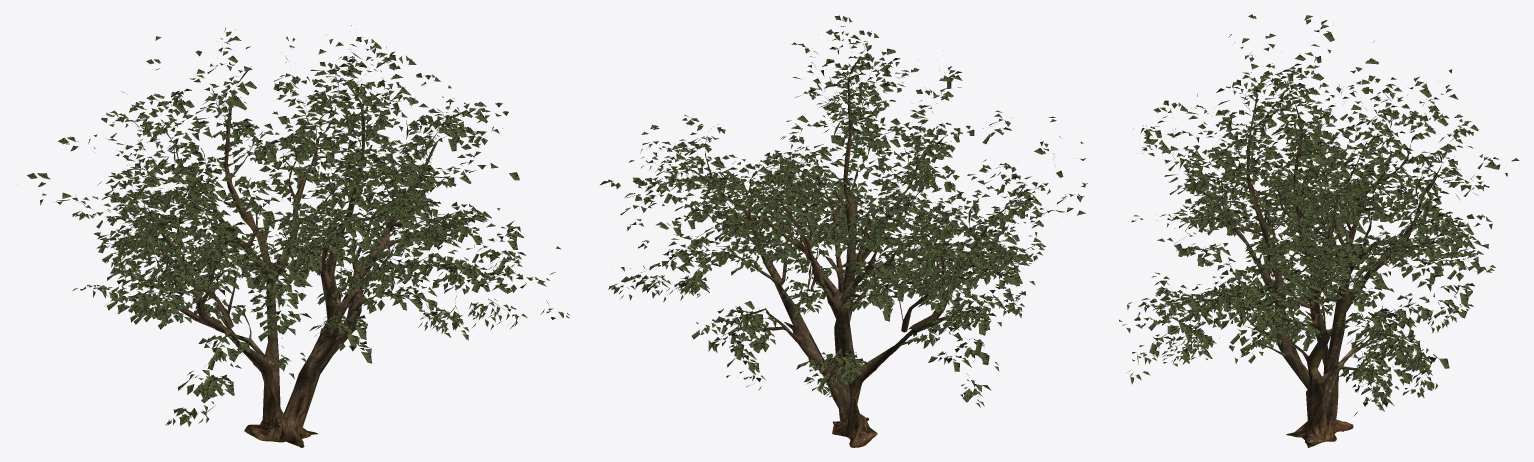
Rendered from jacaranda.glb.
3 renders of one model, left to right at view 1: azimuth 30°, elevation 25°; view 2: azimuth 150°, elevation 25°; view 3: azimuth 270°, elevation 25°, orthographic. The views are drawn at different scales.
Parts seen in each view (by area): view 1: jacaranda_tree_LOD0; view 2: jacaranda_tree_LOD0; view 3: jacaranda_tree_LOD0.
Part boxes in pixels (x1,y1,x2,y2): jacaranda_tree_LOD0: (27, 25, 569, 447); jacaranda_tree_LOD0: (599, 15, 1087, 447); jacaranda_tree_LOD0: (1119, 14, 1519, 447).
Size of the model in its own units: 23.48 by 19.33 by 18.06.
3 materials, 3 textured.
